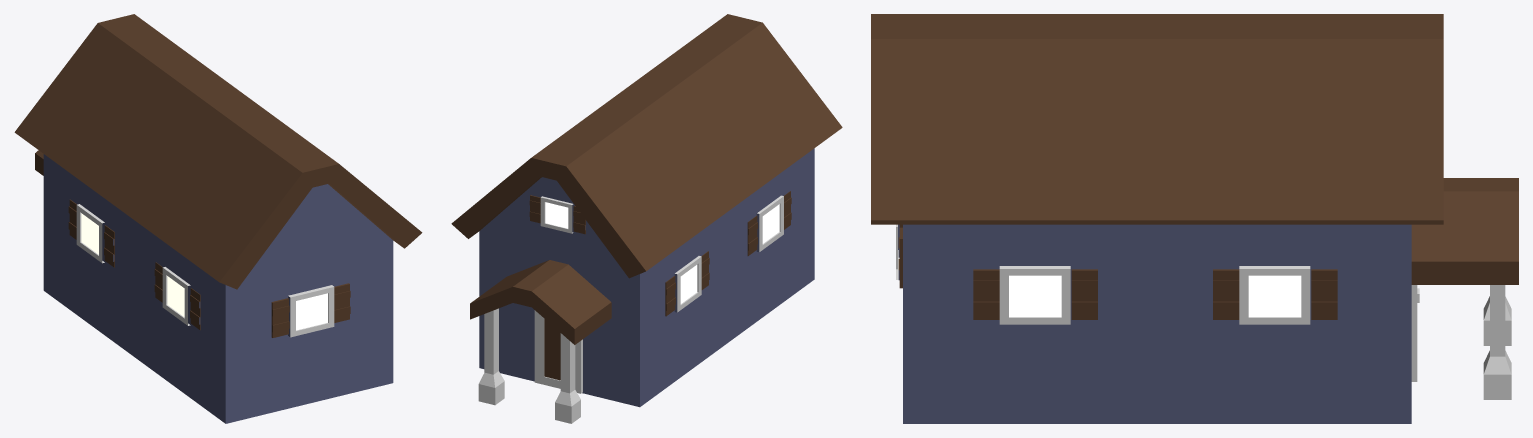
Rendered from farmhouse.glb.
3 views of the same model, side by side, from view 1: azimuth 30°, elevation 25°; view 2: azimuth 150°, elevation 25°; view 3: azimuth 270°, elevation 25° (orthographic). The views are drawn at different scales.
Visible parts, largest first — view 1: Cube; view 2: Cube; view 3: Cube.
Part boxes in pixels (<box>): Cube: <box>14,14,422,423</box>; Cube: <box>451,14,842,423</box>; Cube: <box>871,14,1518,423</box>.
Size of the model in its own units: 9.6 by 10.99 by 18.95.
